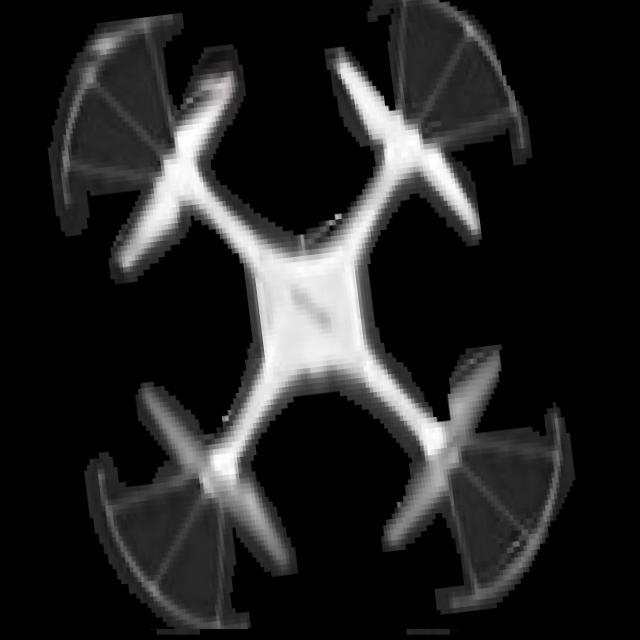drone: (27, 0, 577, 629)
